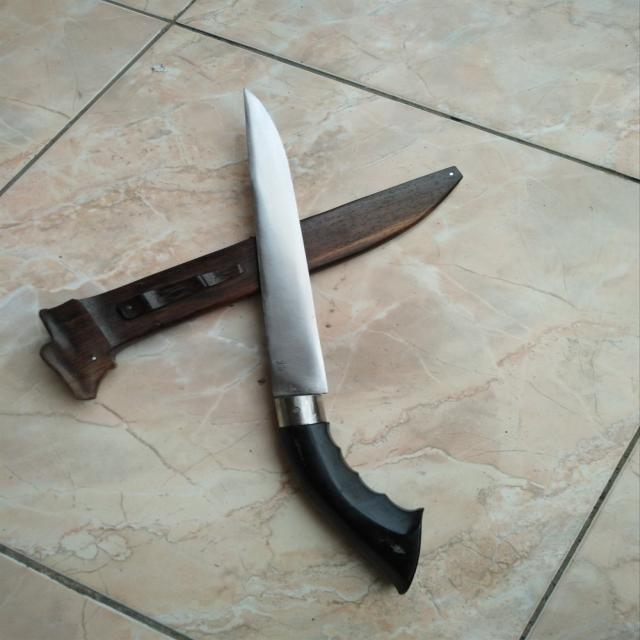Pisau: (241, 80, 442, 611)
